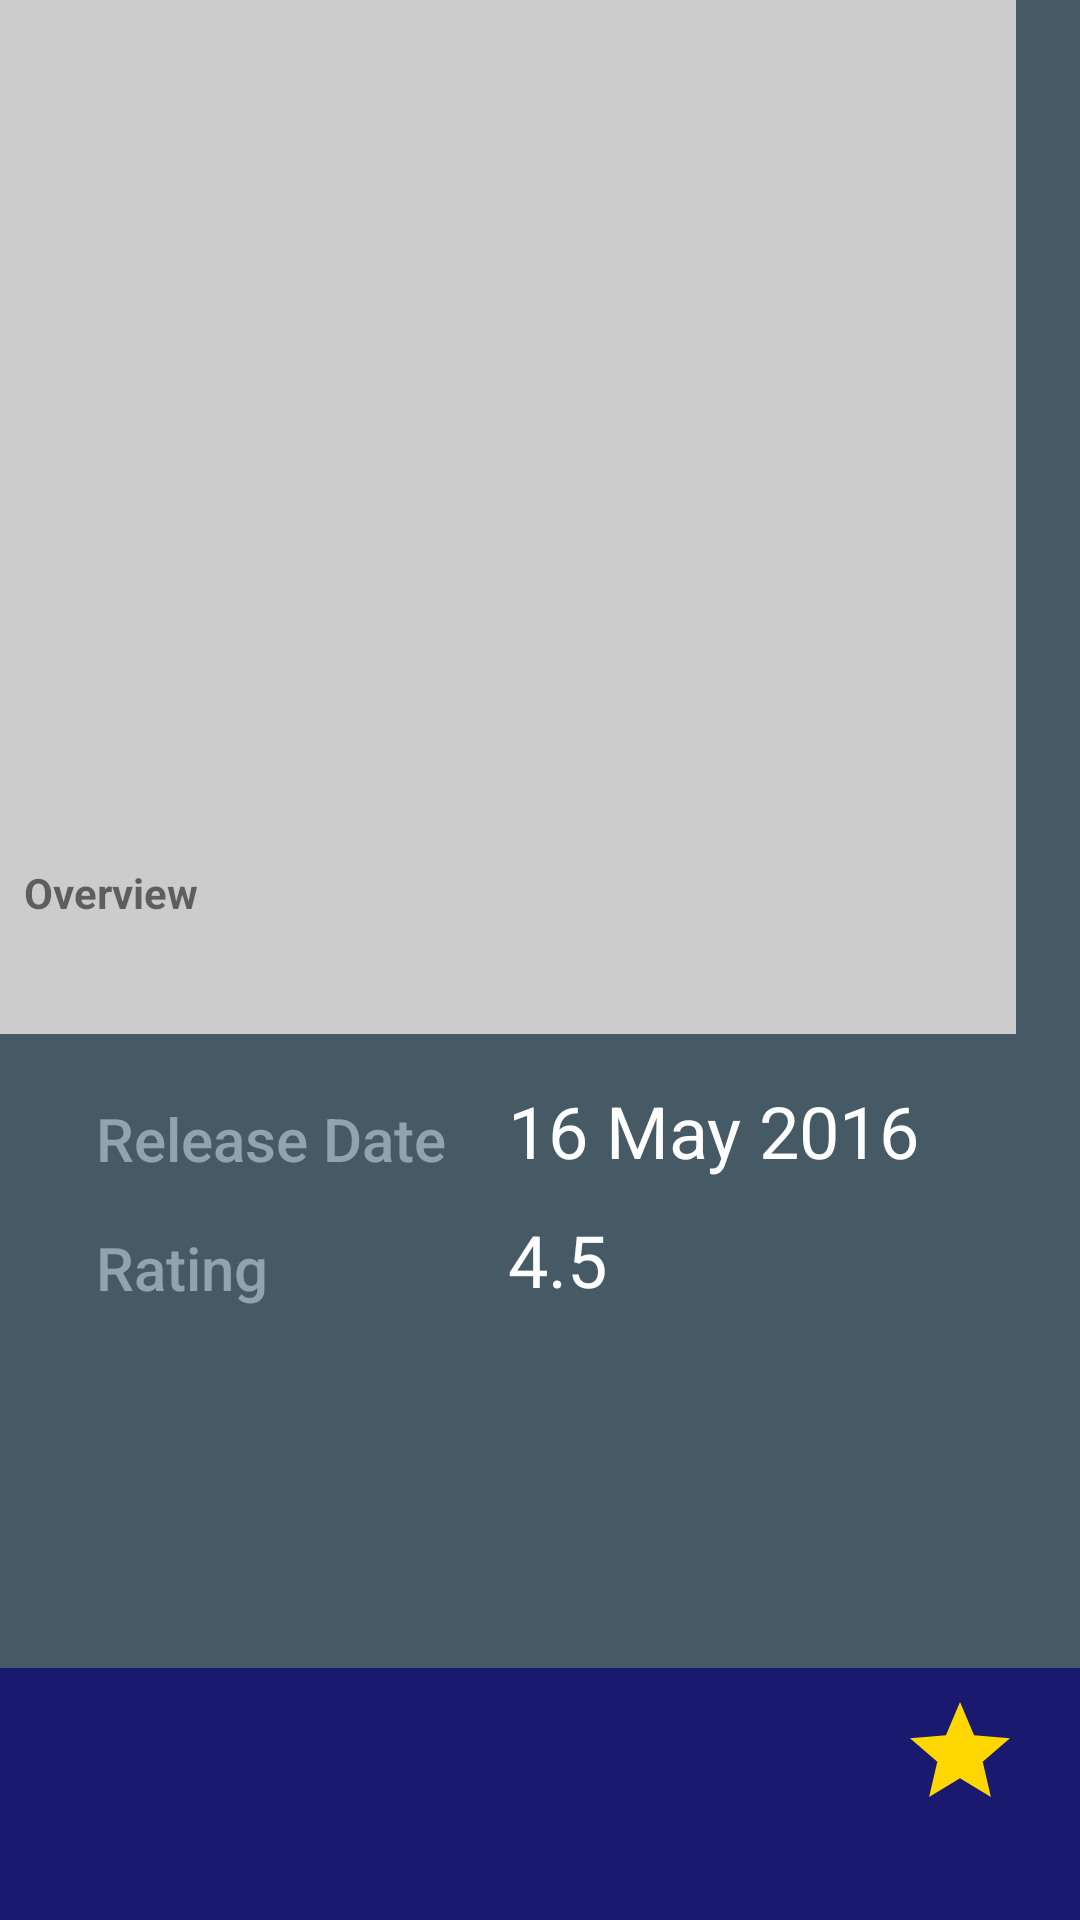

Named icons in this screenshot (1080px x 1920px) and their bounding boxes, [x1, y1, x2, y2]:
favourite: [910, 1702, 1010, 1797]
